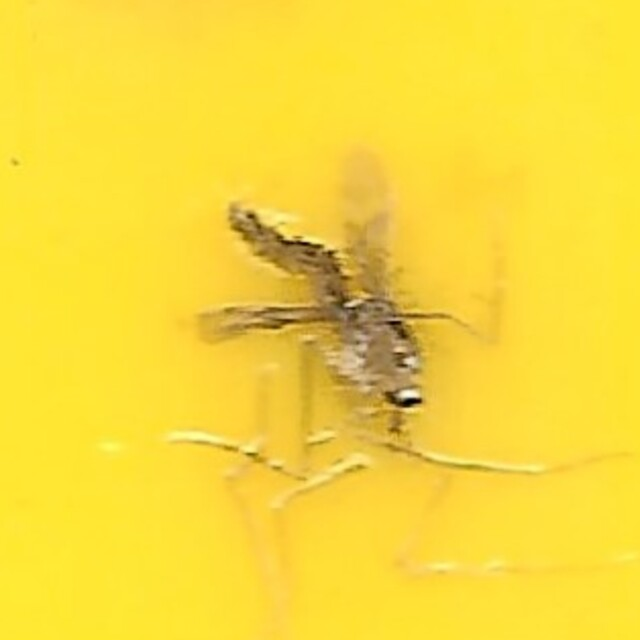Nematocera: (204, 197, 436, 443)
